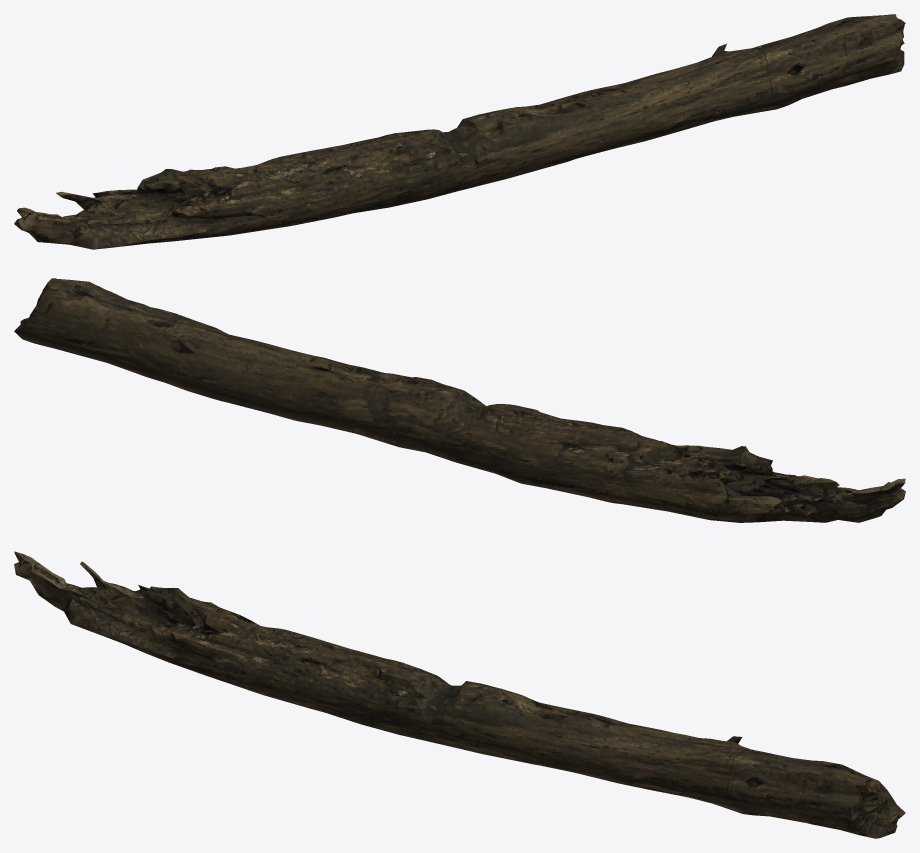
File: dead_tree_trunk.glb
The picture shows the model from 3 angles, top to bottom: view 1: azimuth 30°, elevation 25°; view 2: azimuth 150°, elevation 25°; view 3: azimuth 330°, elevation 25°; orthographic projection.
Parts seen in each view (by area): view 1: dead_tree_trunk; view 2: dead_tree_trunk; view 3: dead_tree_trunk.
Part boxes in pixels (x1,y1,x2,y2): dead_tree_trunk: (14, 14, 905, 249); dead_tree_trunk: (14, 278, 905, 522); dead_tree_trunk: (14, 551, 905, 838).
Bounding box in the file's own units: 3.05 × 0.2899 × 0.2765.
1 material, 1 textured.
